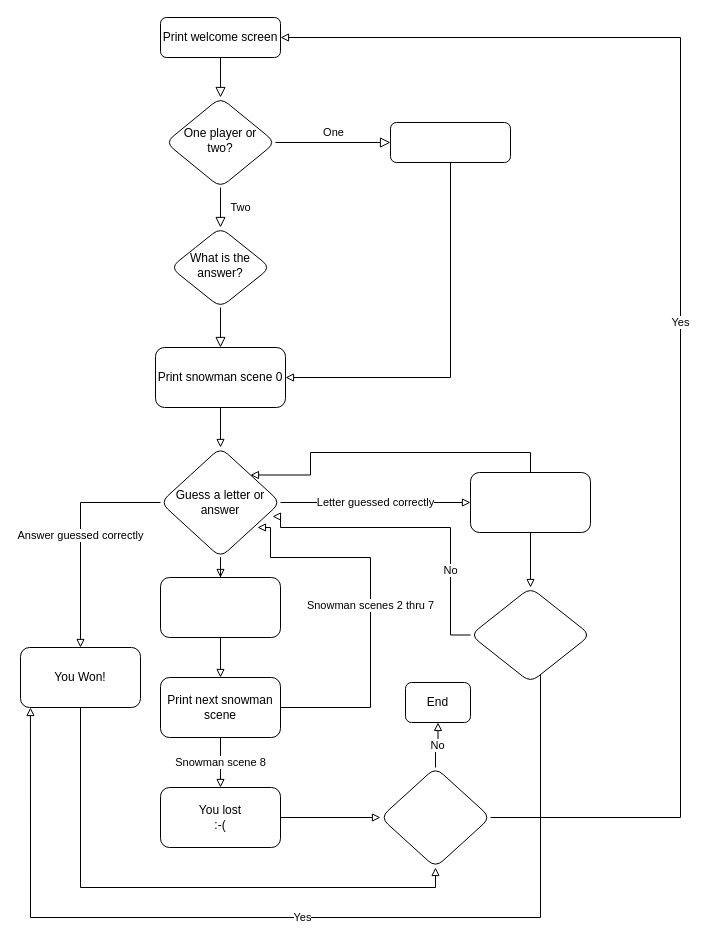
This 706x943 diagram has some shape labels left out. Each missing label, with the centre of its shape:
All letters filled in?: the point at 530,634
Fill in correctly guessed letters: the point at 530,502
Get answer from list: the point at 450,142
Letter guessed incorrectly: the point at 220,607
Play again?: the point at 435,817
